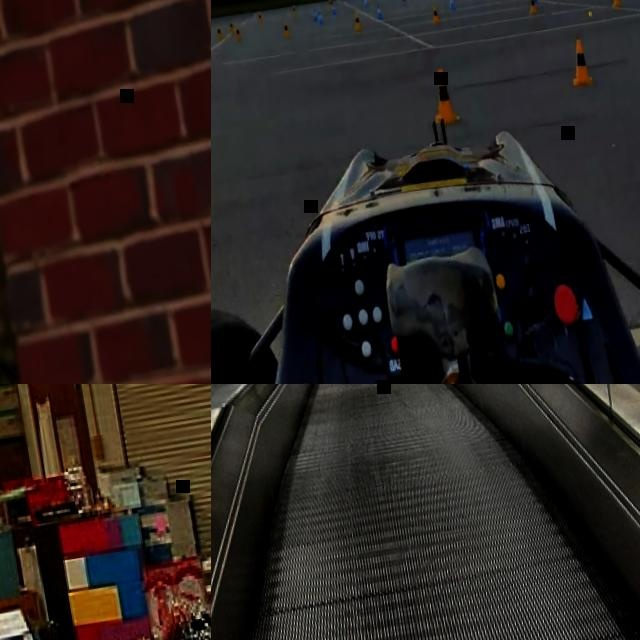Person: (0, 0, 211, 384)
Safety Cone: (424, 61, 462, 125), (564, 33, 596, 92), (429, 0, 442, 26), (352, 8, 364, 31), (281, 19, 293, 42), (214, 24, 226, 47), (226, 18, 237, 41), (234, 23, 246, 44), (374, 1, 385, 23), (318, 9, 328, 32), (527, 0, 540, 16), (609, 0, 623, 10), (447, 0, 457, 14)
vehicle: (211, 64, 640, 384)
